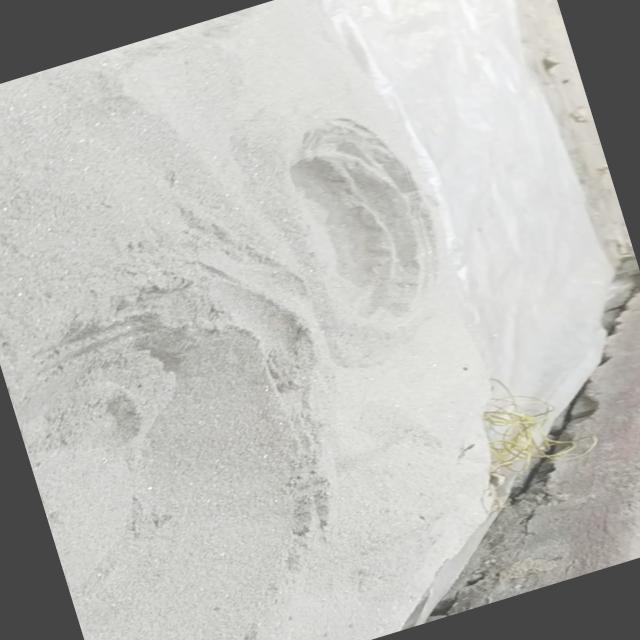C20: (15, 320, 314, 640), (290, 125, 426, 321)
